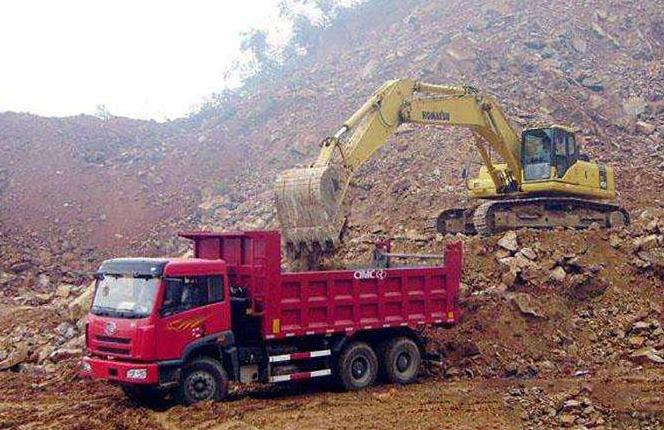excavator: (276, 84, 609, 234)
